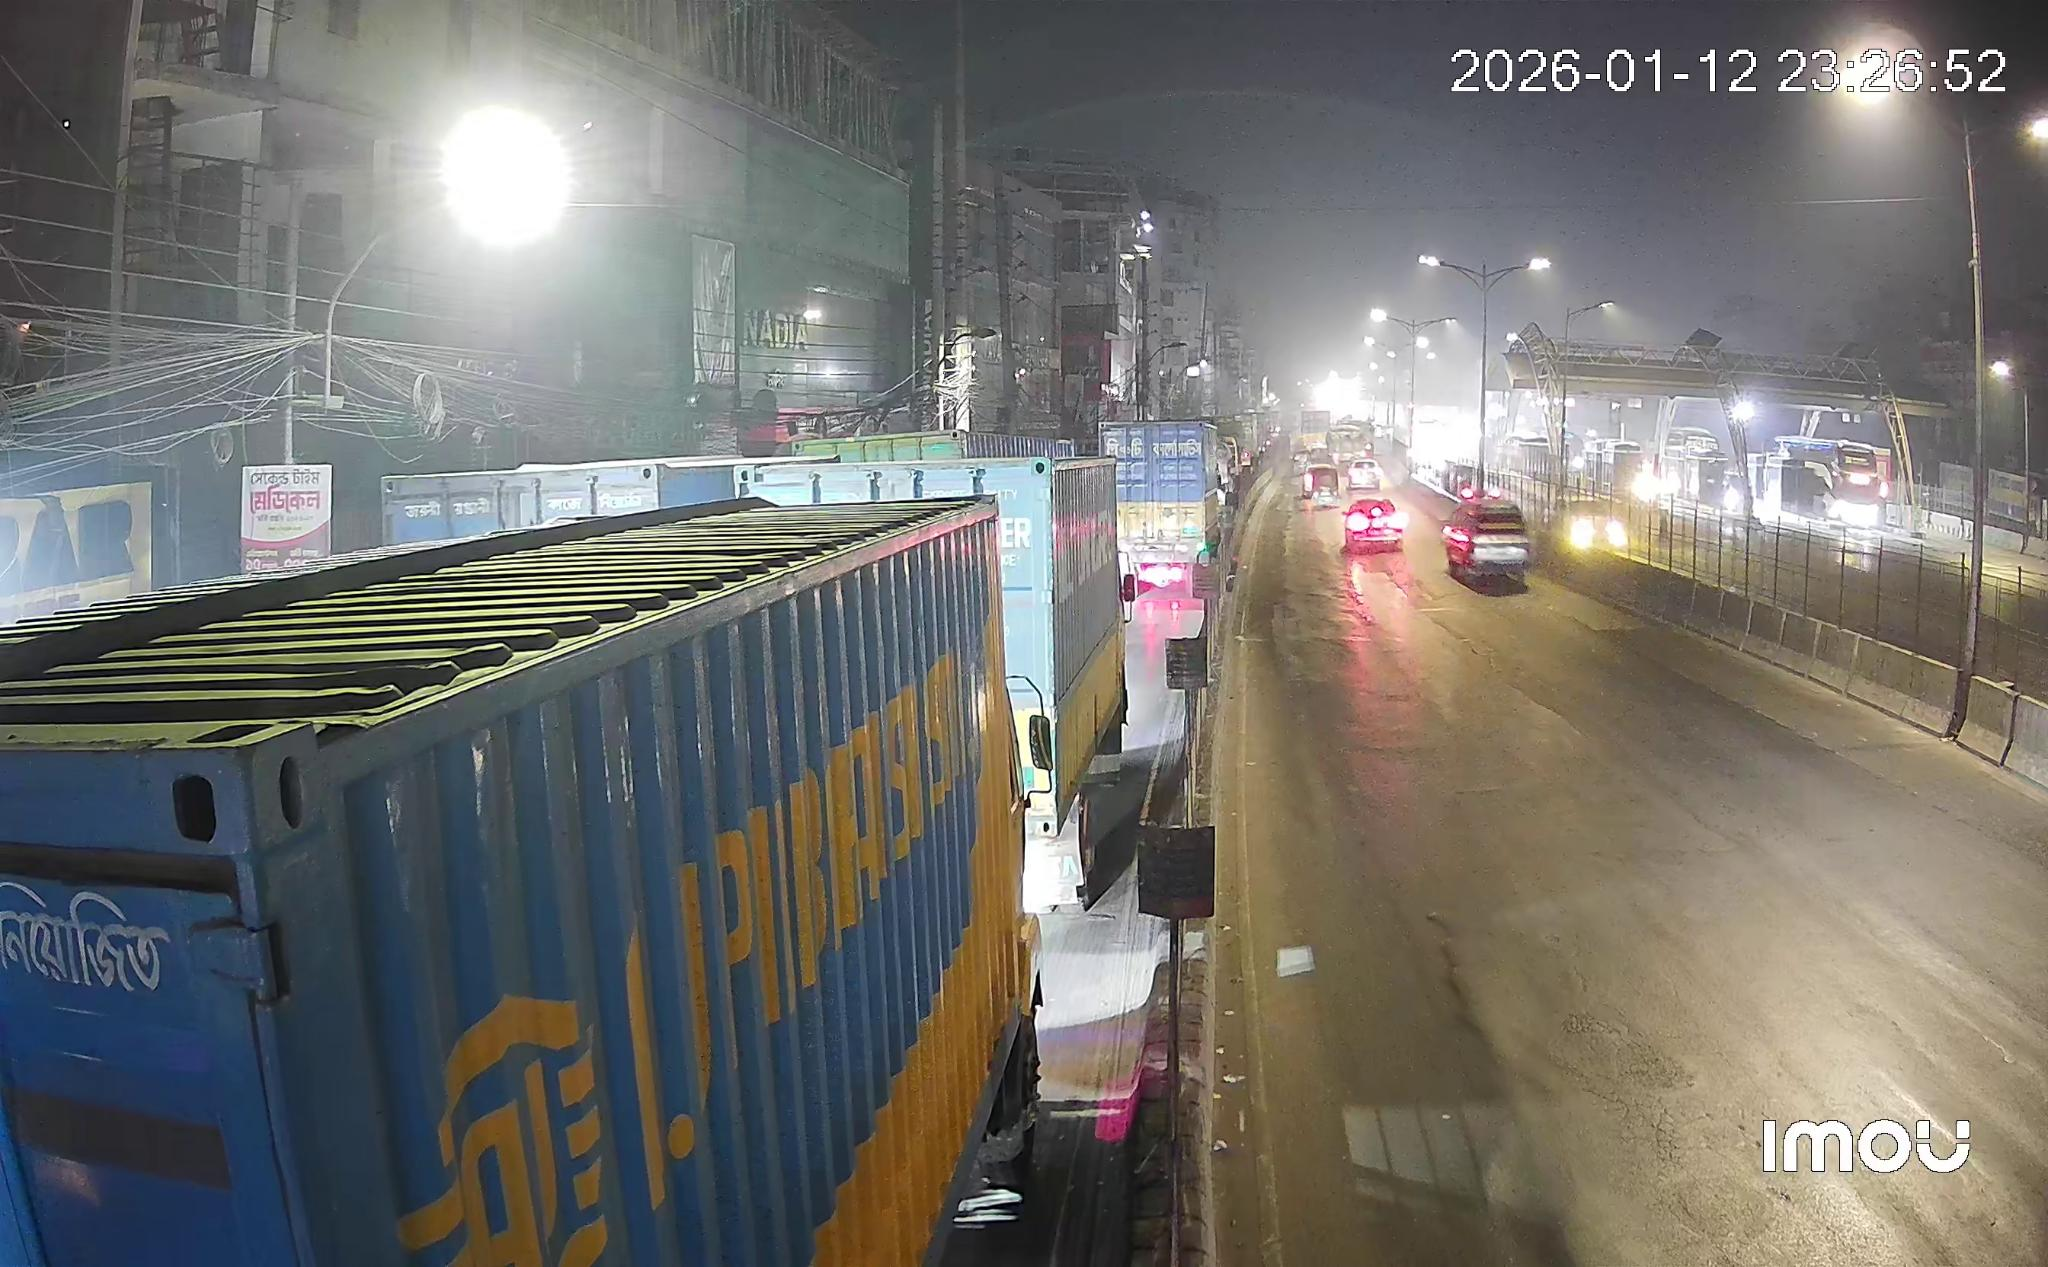Jeep-SUV: (1442, 497, 1530, 588)
Private-Sedan Car: (1537, 499, 1627, 552), (1343, 496, 1407, 553)
Truck: (0, 499, 1039, 1267), (752, 456, 1126, 910), (1102, 420, 1221, 600)
